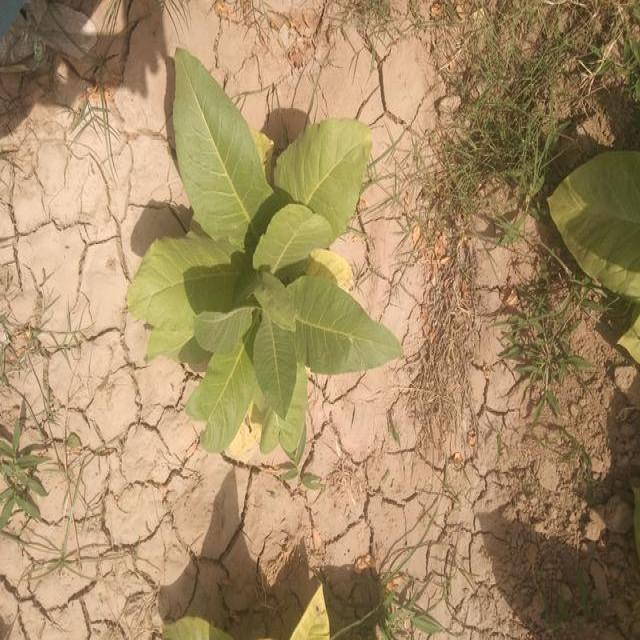crop: (122, 43, 413, 467)
